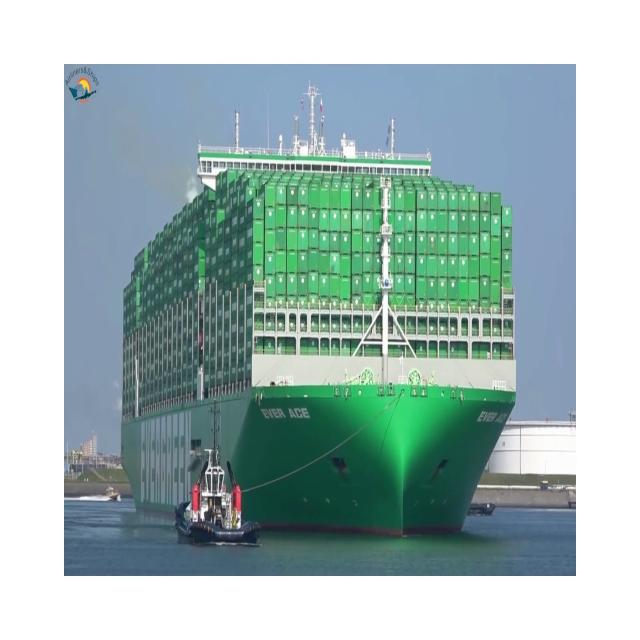OCR: (134, 409, 205, 511), (255, 397, 315, 436), (478, 394, 515, 439)
